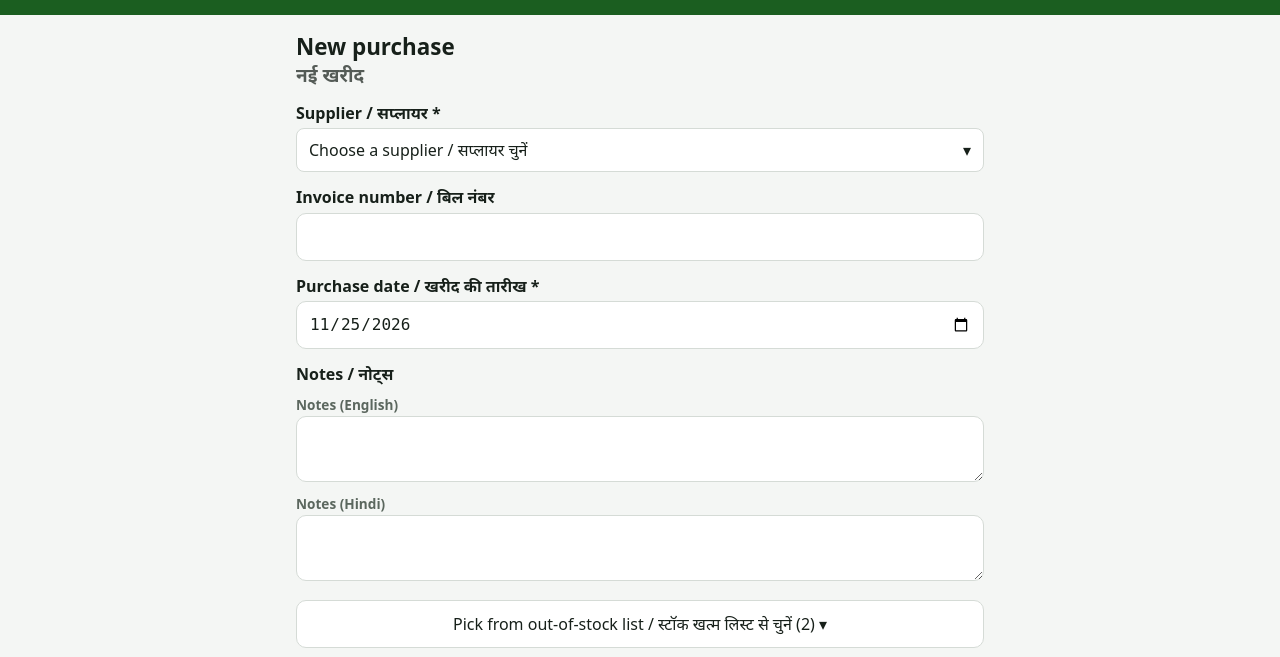
recording a purchase › picking a list item that is not in the catalogue adds it to the catalogue and uses it
Click the button "Pick from out-of-stock list": (640, 624) 296,600 -> 984,648
(page scrolled)
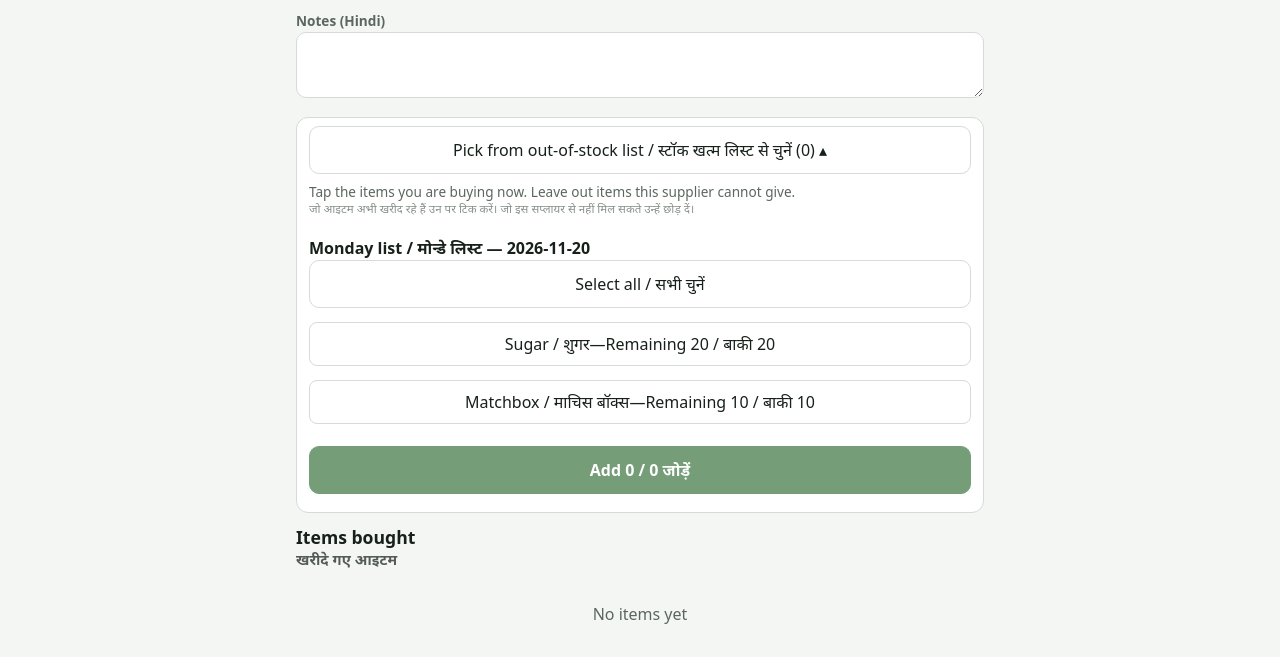
Click the option "Matchbox / माचिस बॉक्स — Remaining 10 / बाकी 10": (640, 402) 309,380 -> 971,424
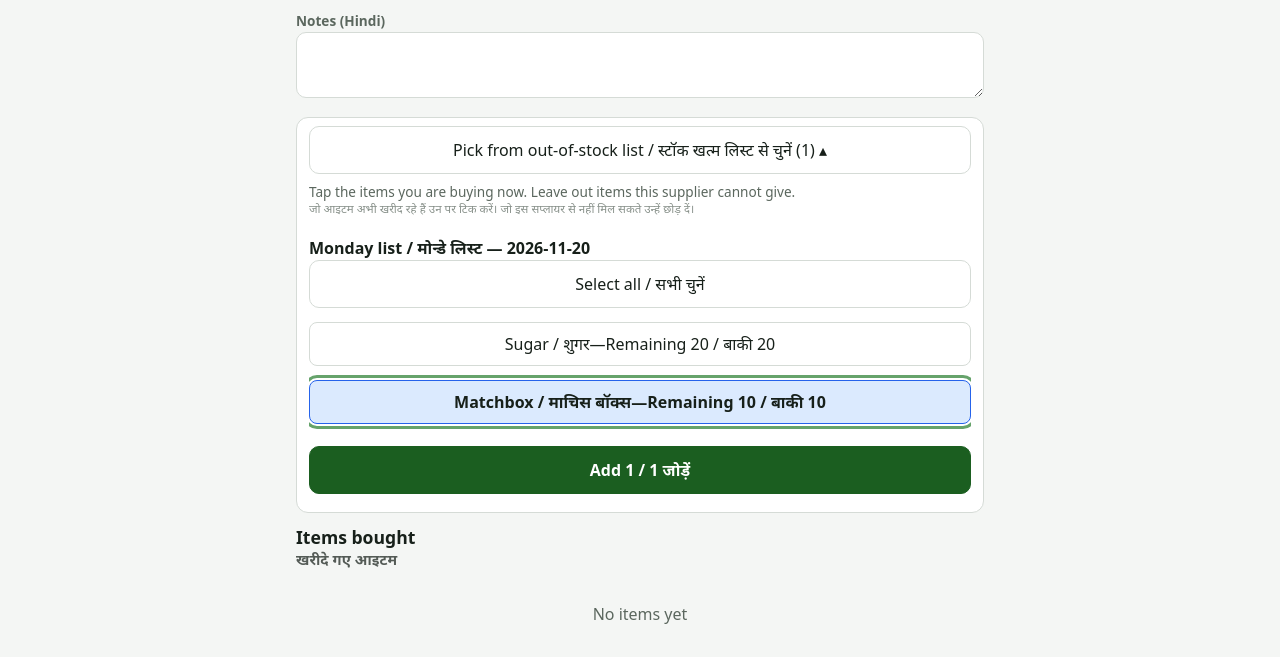
Click the button "Add 1 / 1 जोड़ें": (640, 470) 309,446 -> 971,494
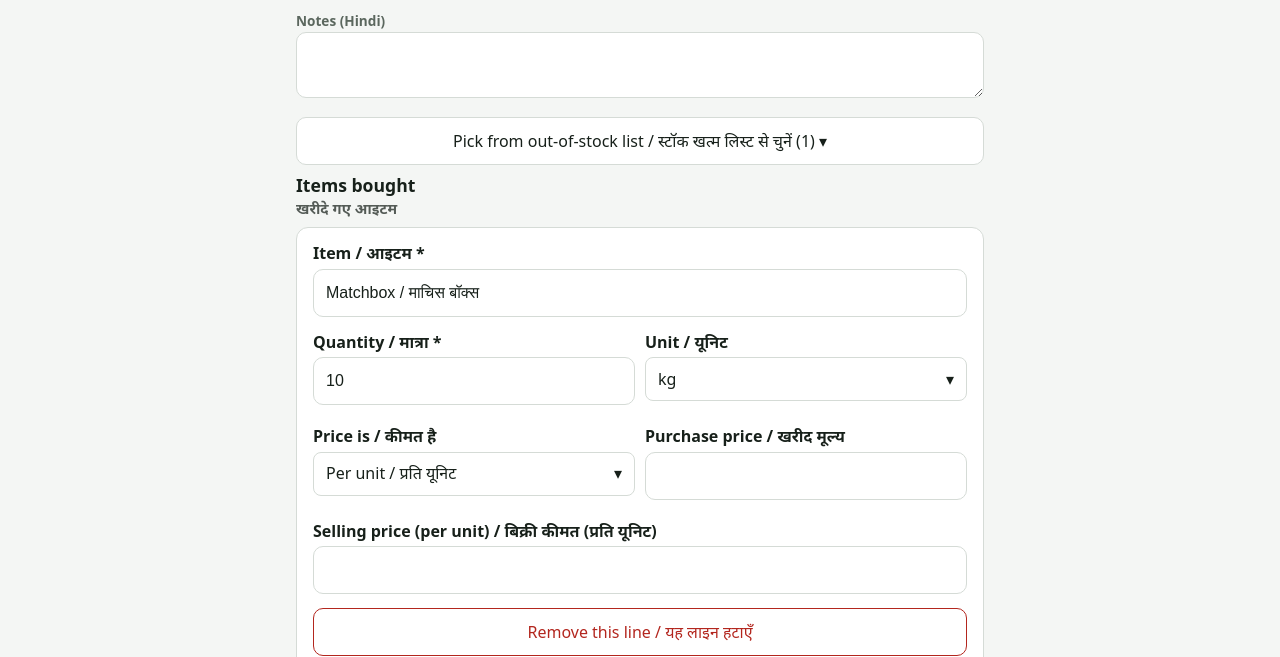
Expected: the field labelled "Quantity / मात्रा *" holds "10", 313,357 -> 635,405
